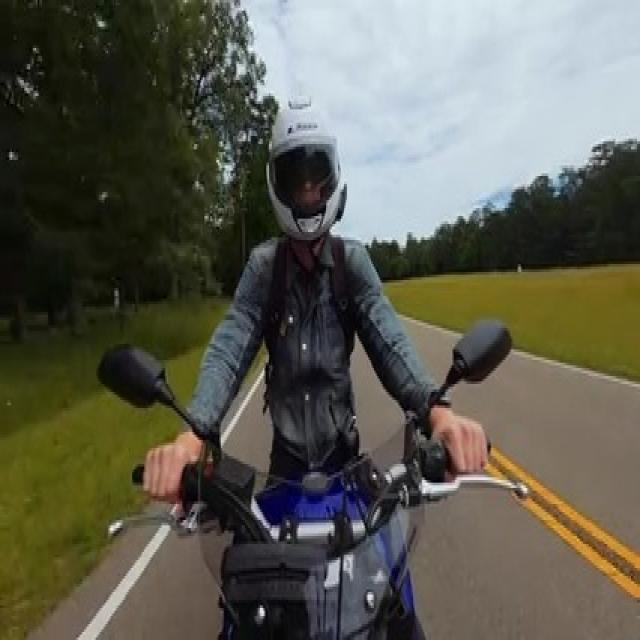Helmet_Wearer: (259, 87, 358, 240)
Person: (156, 78, 478, 496)
